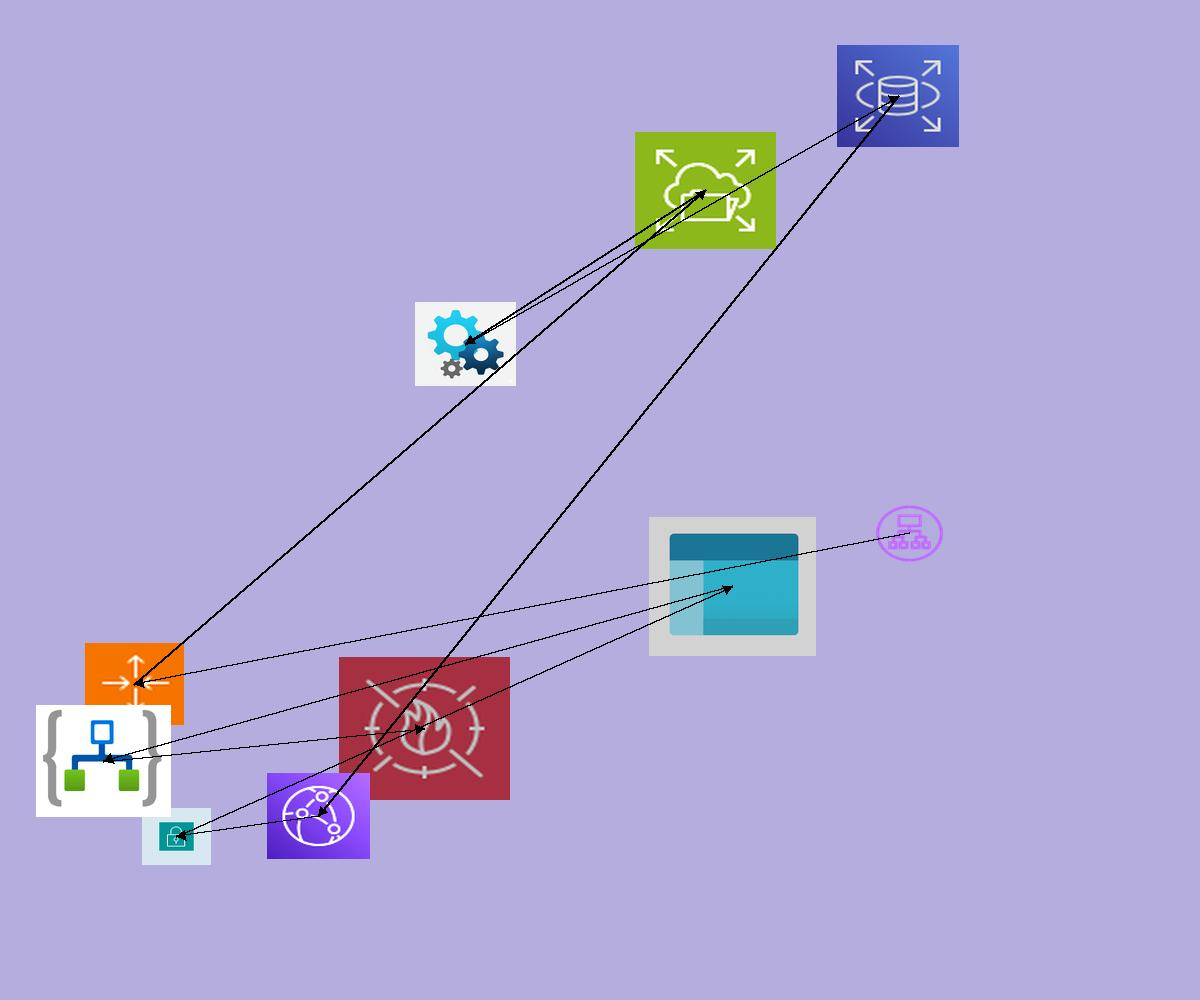AWS-CloudFront: (267, 773, 370, 859)
AWS-EFS: (635, 132, 776, 249)
AWS-Private-subnet: (142, 808, 211, 865)
AWS-RDS: (837, 45, 959, 147)
AWS-Res_Elastic-Load-Balancing_Application-Load-Balancer: (873, 503, 946, 564)
AWS-Scaling-group: (85, 643, 184, 725)
AWS-WAF: (339, 657, 510, 800)
Azure_api: (415, 302, 516, 386)
Azure_integration-204-Logic-Apps: (36, 705, 171, 817)
Azure_management-portal: (649, 517, 816, 656)
